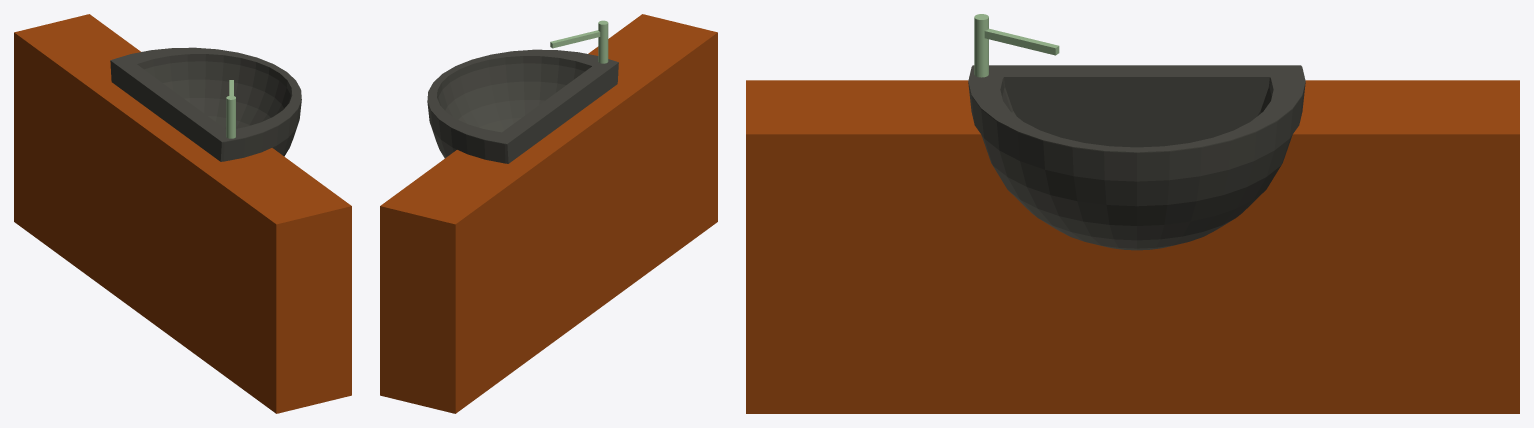
Rendered from sink.obj.
The picture shows the model from 3 angles, left to right: view 1: azimuth 30°, elevation 25°; view 2: azimuth 150°, elevation 25°; view 3: azimuth 270°, elevation 25°; orthographic projection. The views are drawn at different scales.
Visible parts, largest first — view 1: Counter_Cube, Basin_Sphere.002, Cylinder; view 2: Counter_Cube, Basin_Sphere.002, Cylinder, Cube.001_Cube.006; view 3: Counter_Cube, Basin_Sphere.002, Cylinder, Cube.001_Cube.006.
Part boxes in pixels (bbox=[...]): Counter_Cube: bbox=[14, 14, 351, 413]; Basin_Sphere.002: bbox=[110, 47, 301, 161]; Cylinder: bbox=[226, 95, 235, 138]; Counter_Cube: bbox=[380, 14, 717, 413]; Basin_Sphere.002: bbox=[427, 49, 618, 163]; Cylinder: bbox=[598, 20, 608, 63]; Cube.001_Cube.006: bbox=[550, 30, 600, 48]; Counter_Cube: bbox=[746, 80, 1519, 413]; Basin_Sphere.002: bbox=[968, 65, 1305, 250]; Cylinder: bbox=[974, 14, 988, 77]; Cube.001_Cube.006: bbox=[984, 28, 1059, 55].
Bounding box in the file's own units: 0.6287 × 1.05 × 2.
